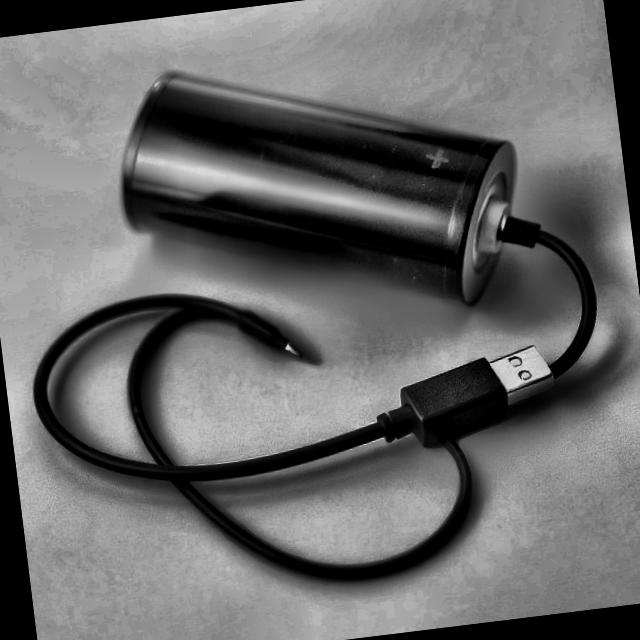Battery: (102, 28, 532, 346)
Cable: (16, 205, 623, 616)
